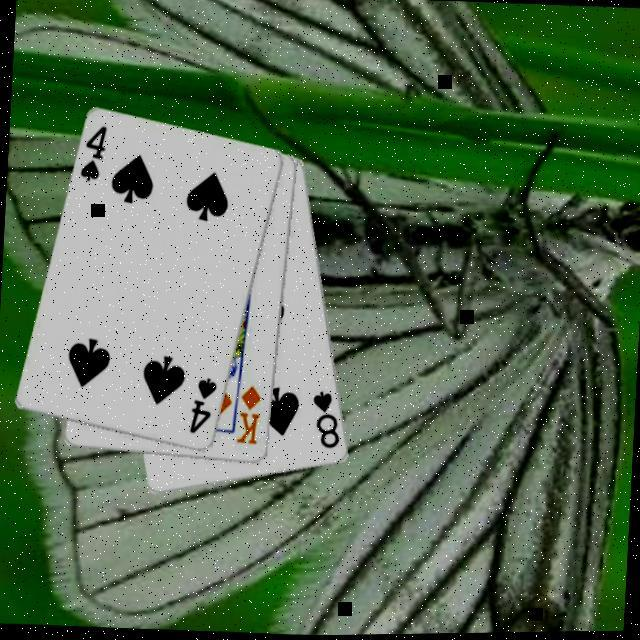4S: (78, 121, 113, 184), (189, 374, 222, 436)
8S: (309, 386, 346, 451)
KD: (236, 380, 267, 448)
